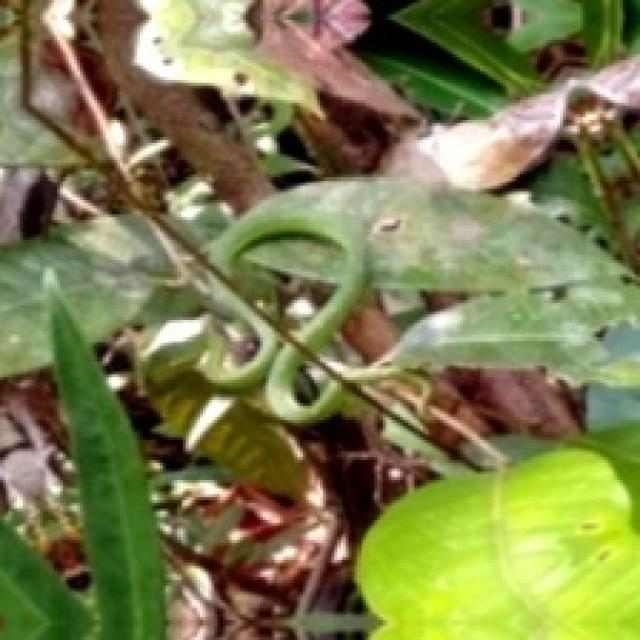north ph temple pitviper: (199, 214, 433, 424)
